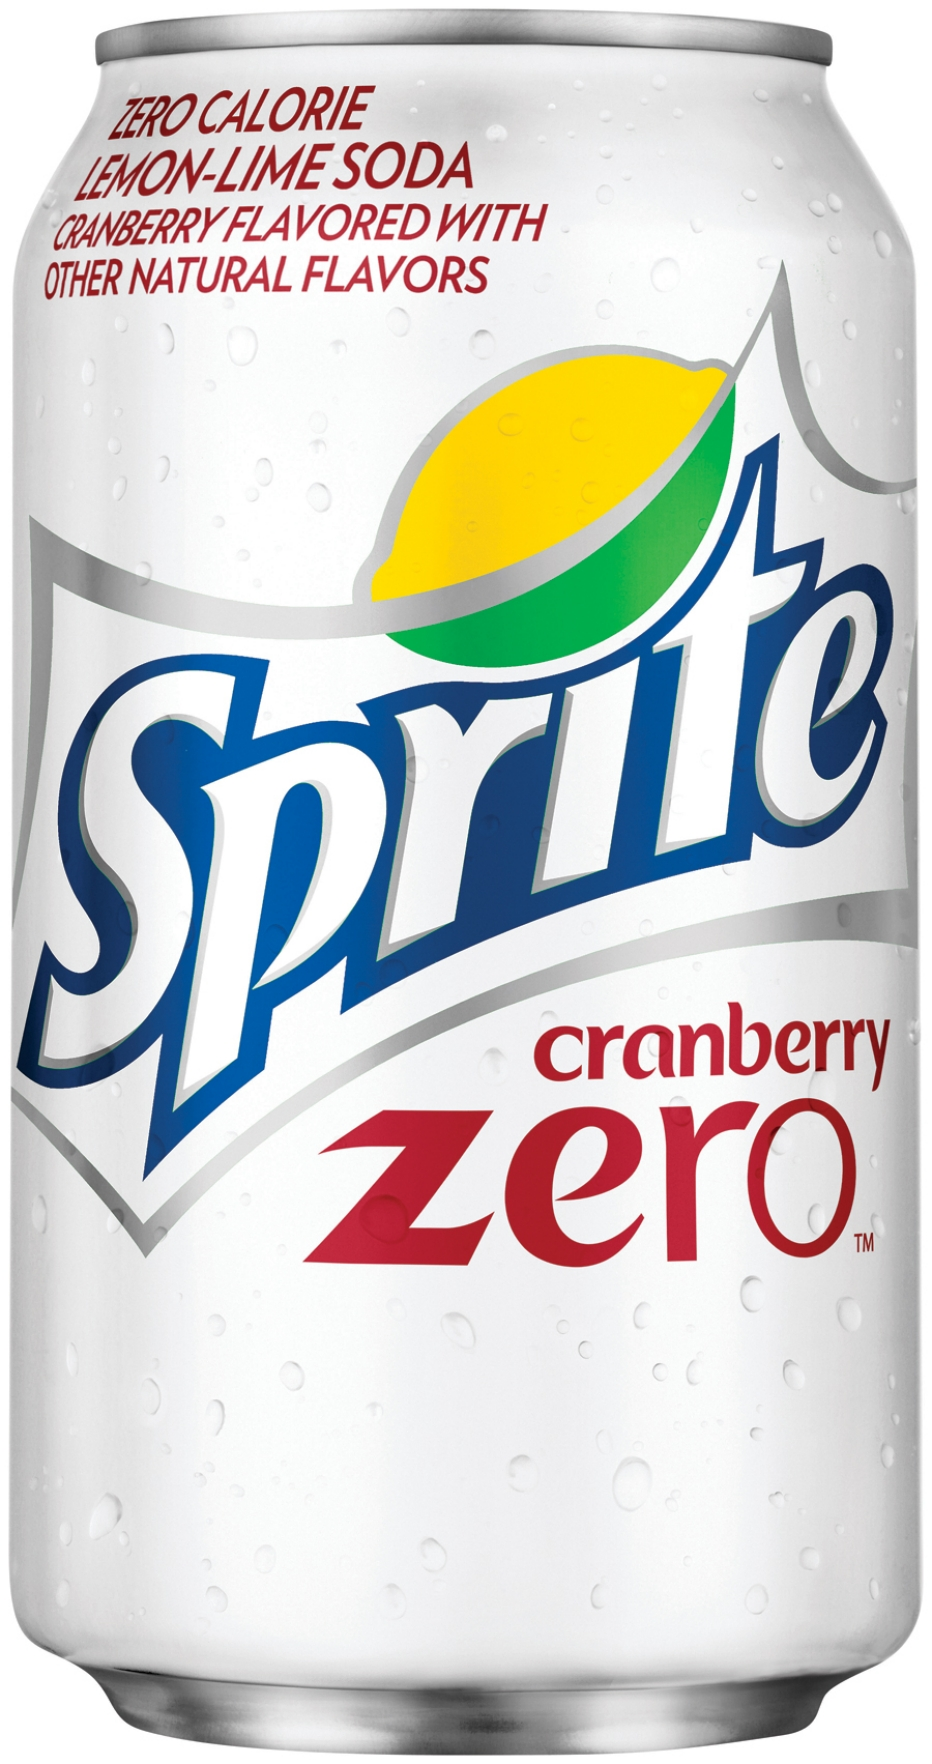sprite: (38, 459, 884, 1113)
